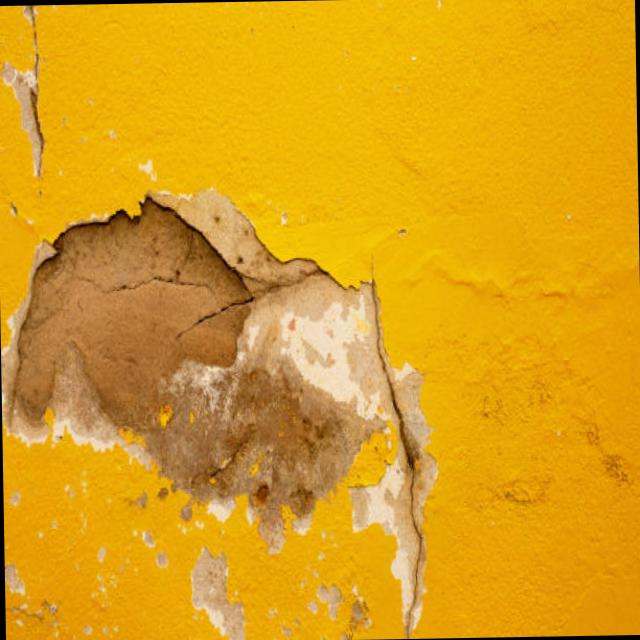crack: (368, 274, 432, 638), (55, 268, 228, 304), (28, 5, 48, 182)
